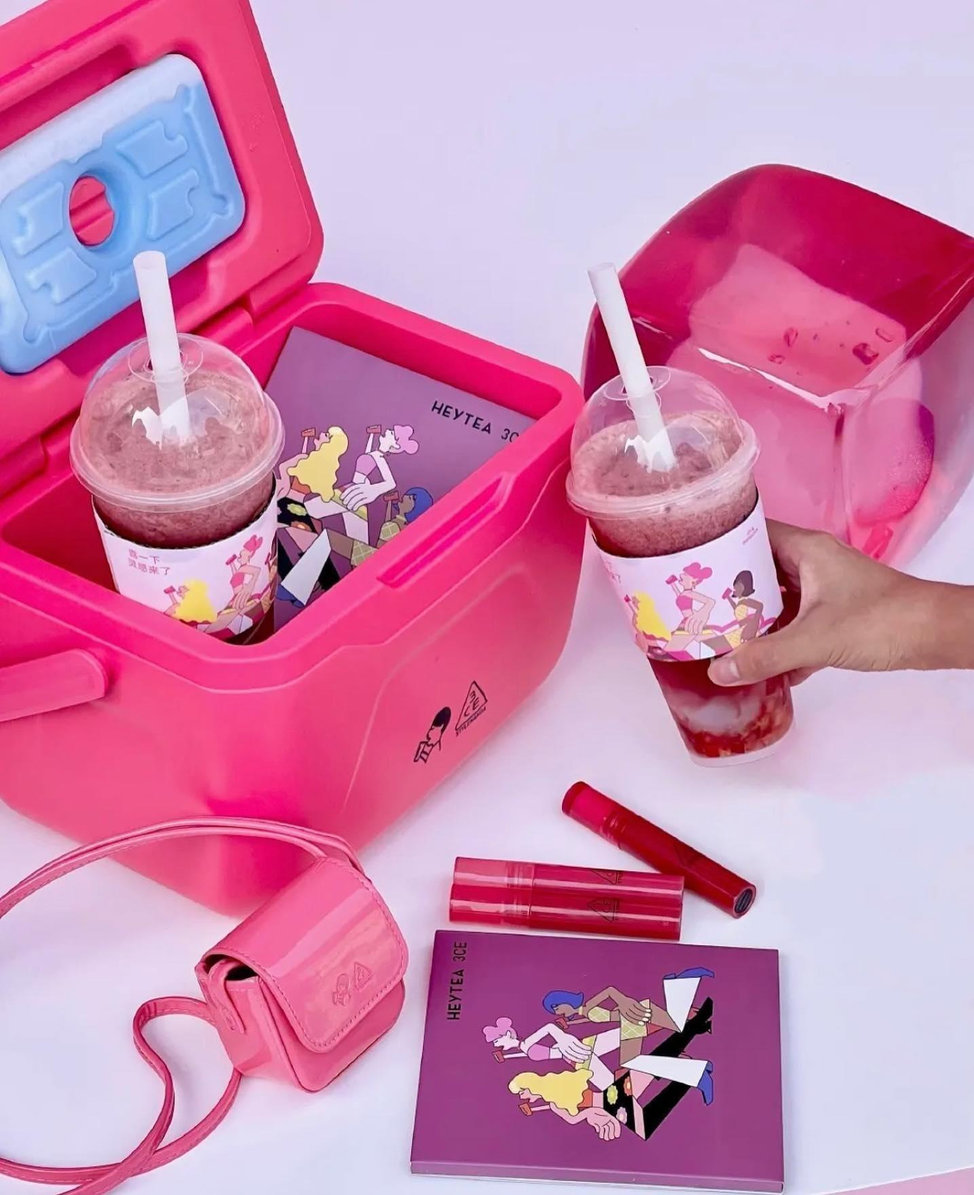cup-disposable: (558, 354, 836, 772), (60, 331, 299, 636)
